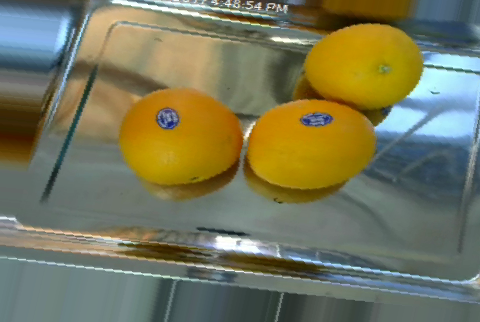Orange: (118, 86, 242, 184), (246, 99, 378, 191), (303, 22, 423, 109)
